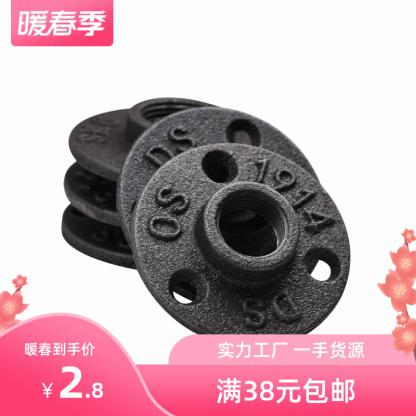FOD: (131, 140, 357, 344), (113, 106, 326, 268), (64, 91, 285, 184)
